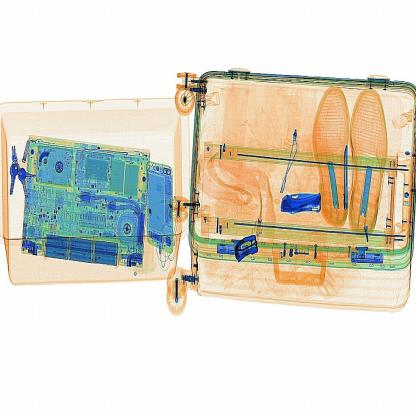knife: (275, 188, 332, 223)
